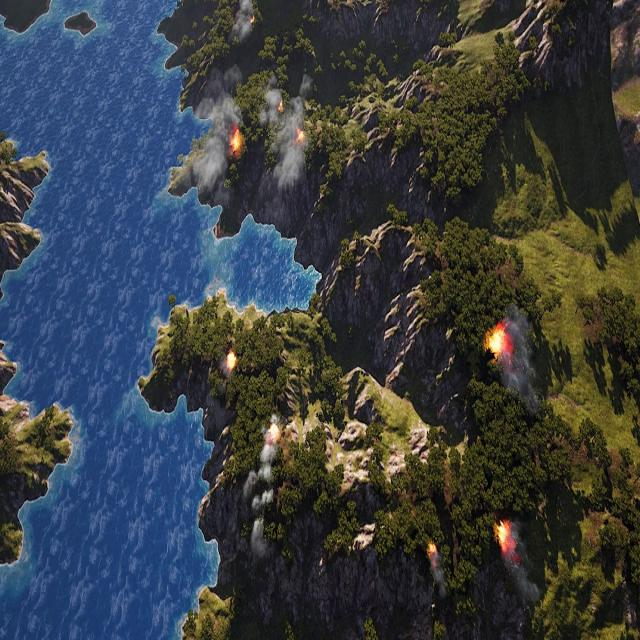fire: (486, 323, 509, 355), (494, 520, 512, 553), (230, 128, 244, 157), (225, 350, 236, 370), (269, 422, 280, 442), (427, 541, 437, 562), (294, 128, 303, 145), (277, 100, 285, 114), (250, 14, 254, 24)
smoke: (194, 62, 244, 200), (242, 413, 282, 564), (263, 77, 314, 193), (492, 308, 542, 419), (505, 525, 542, 608), (232, 0, 256, 44), (428, 542, 445, 593)
